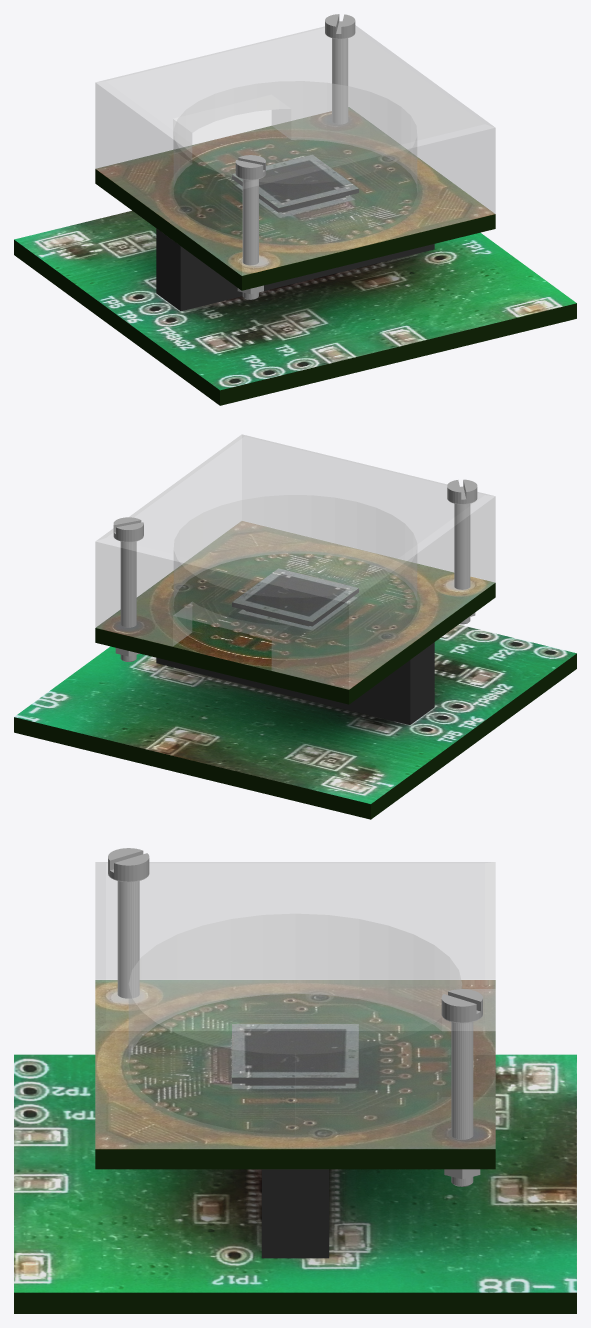
Rendered from DPX.glb.
3 renders of one model, top to bottom at view 1: azimuth 30°, elevation 25°; view 2: azimuth 150°, elevation 25°; view 3: azimuth 270°, elevation 25°, orthographic. The views are drawn at different scales.
Parts seen in each view (by area): view 1: PlasticCap, Plane, PCB, Connector, DPX.001, Screw, Screw2; view 2: PlasticCap, Plane, PCB, Connector, DPX.001, Screw2, Screw; view 3: PlasticCap, Plane, PCB, DPX.001, Connector, Screw2, Screw.
Part boxes in pixels (x1,y1,x2,y2): PlasticCap: (95,25,495,275); Plane: (14,210,576,405); PCB: (95,107,495,290); Connector: (156,228,434,310); DPX.001: (232,154,358,212); Screw: (235,155,265,299); Screw2: (325,14,355,123); PlasticCap: (95,434,495,689); Plane: (14,624,576,819); PCB: (95,521,495,704); Connector: (156,642,434,724); DPX.001: (232,568,358,626); Screw2: (113,517,143,661); Screw: (447,479,477,624); PlasticCap: (95,862,495,1148); Plane: (14,1054,576,1313); PCB: (95,980,495,1169); DPX.001: (232,1024,358,1083); Connector: (262,1169,328,1258); Screw2: (441,989,482,1186); Screw: (108,848,149,998).
Bounding box in the file's own units: 2.53 × 1.33 × 2.53.
7 materials, 3 textured.
